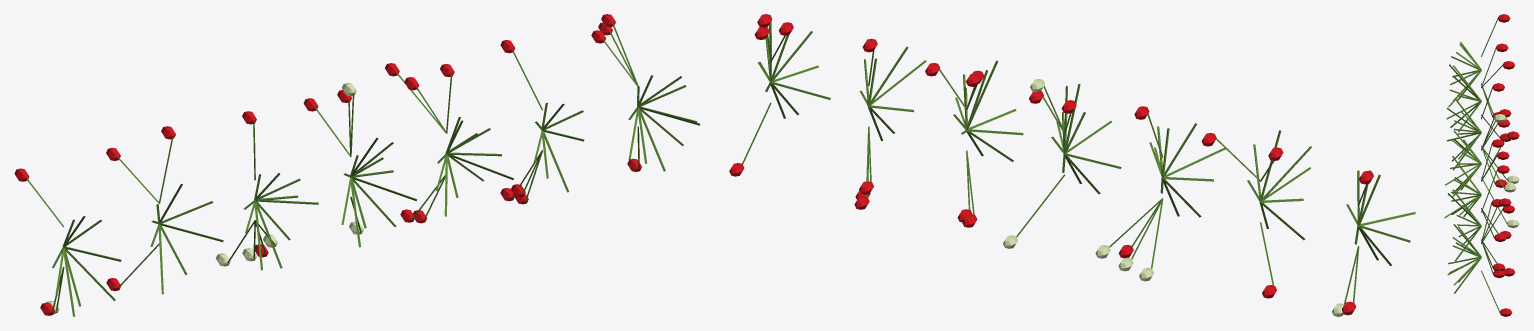
File: r2c3_rest.obj
3 renders of one model, left to right at view 1: azimuth 30°, elevation 25°; view 2: azimuth 150°, elevation 25°; view 3: azimuth 270°, elevation 25°, orthographic. The views are drawn at different scales.
Parts seen in each view (by area): view 1: r2c3_rest; view 2: r2c3_rest; view 3: r2c3_rest.
Part boxes in pixels (x1,y1,x2,y2): r2c3_rest: [14, 14, 700, 316]; r2c3_rest: [729, 14, 1415, 316]; r2c3_rest: [1444, 14, 1519, 316].
Bounding box in the file's own units: 1.69 × 0.4055 × 0.2555.
